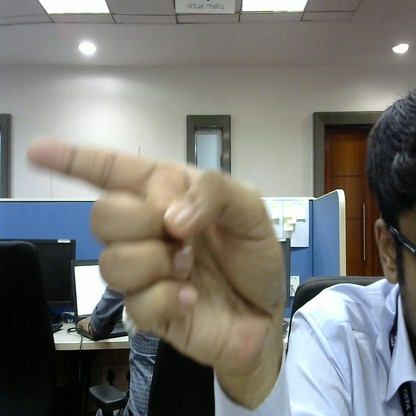g: (25, 132, 302, 384)
